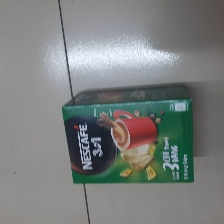Nes Rang: (61, 82, 194, 184)
